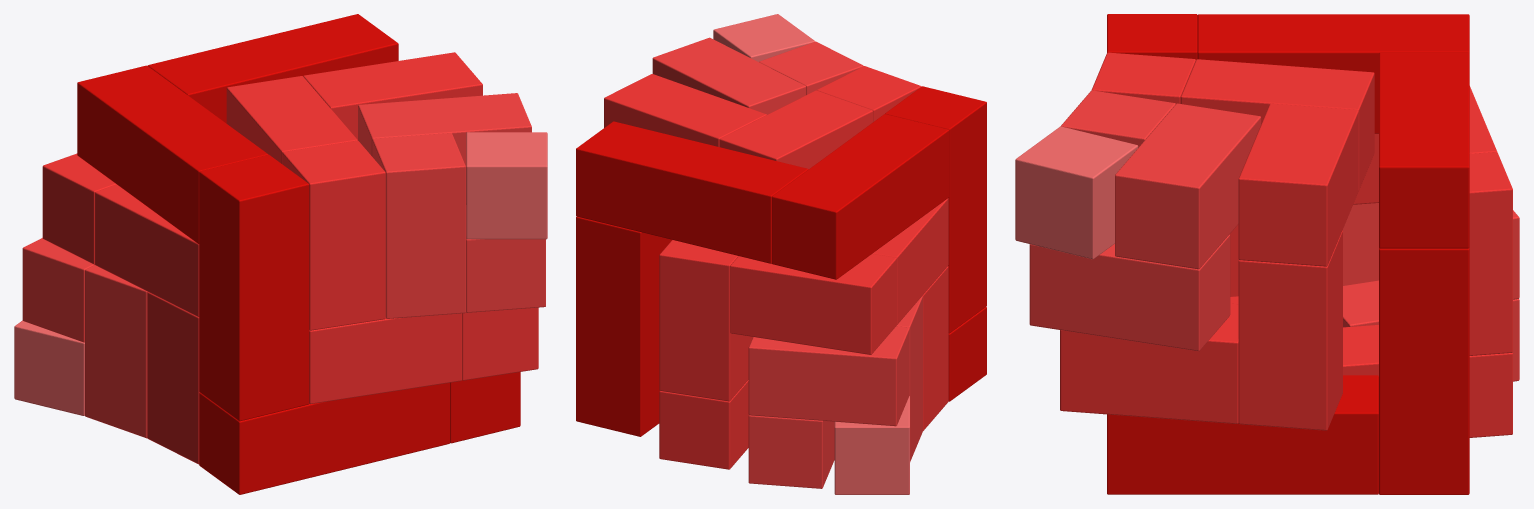
File: Cubic.gltf
3 views of the same model, side by side, from view 1: azimuth 30°, elevation 25°; view 2: azimuth 150°, elevation 25°; view 3: azimuth 270°, elevation 25° (orthographic). The views are drawn at different scales.
Parts seen in each view (by area): view 1: Cube.002, Cube.016, Cube.003, Cube.017, Cube.020, Cube.019, Cube.005, Cube.028, Cube.018, Cube.033, Cube.032, Cube.024 (+8 smaller); view 2: Cube.005, Cube.003, Cube.007, Cube.034, Cube.039, Cube.035, Cube.002, Cube.024, Cube.023, Cube.025, Cube.036, Cube.038 (+8 smaller); view 3: Cube.007, Cube.008, Cube.005, Cube.025, Cube.022, Cube.023, Cube.026, Cube.021, Cube.003, Cube.018, Cube.024, Cube.035 (+10 smaller).
Boxes of the visible parts, left/top/right/bottom form: Cube.002: left=199, top=154, right=309, bottom=421; Cube.016: left=199, top=383, right=449, bottom=494; Cube.003: left=77, top=65, right=268, bottom=243; Cube.017: left=372, top=133, right=465, bottom=318; Cube.020: left=282, top=140, right=385, bottom=330; Cube.019: left=309, top=313, right=462, bottom=404; Cube.005: left=148, top=14, right=398, bottom=123; Cube.028: left=85, top=265, right=147, bottom=438; Cube.018: left=466, top=132, right=547, bottom=239; Cube.033: left=95, top=184, right=199, bottom=317; Cube.032: left=147, top=292, right=199, bottom=464; Cube.024: left=226, top=76, right=357, bottom=163; Cube.005: left=576, top=121, right=808, bottom=263; Cube.003: left=772, top=114, right=949, bottom=279; Cube.007: left=576, top=216, right=671, bottom=436; Cube.034: left=730, top=254, right=896, bottom=354; Cube.039: left=748, top=326, right=909, bottom=426; Cube.035: left=659, top=240, right=752, bottom=401; Cube.002: left=885, top=86, right=986, bottom=333; Cube.024: left=719, top=90, right=873, bottom=169; Cube.023: left=604, top=74, right=766, bottom=146; Cube.025: left=652, top=37, right=805, bottom=114; Cube.036: left=659, top=380, right=748, bottom=469; Cube.038: left=748, top=415, right=834, bottom=488; Cube.007: left=1379, top=247, right=1469, bottom=494; Cube.008: left=1107, top=375, right=1378, bottom=494; Cube.005: left=1379, top=52, right=1469, bottom=248; Cube.025: left=1115, top=103, right=1261, bottom=269; Cube.022: left=1238, top=230, right=1342, bottom=430; Cube.023: left=1238, top=103, right=1358, bottom=266; Cube.026: left=1029, top=234, right=1230, bottom=351; Cube.021: left=1060, top=303, right=1238, bottom=423; Cube.003: left=1197, top=14, right=1469, bottom=133; Cube.018: left=1015, top=126, right=1138, bottom=259; Cube.024: left=1180, top=59, right=1374, bottom=190; Cube.035: left=1469, top=152, right=1512, bottom=355.
Bounding box in the file's own units: 1.77 × 1.28 × 1.77.
